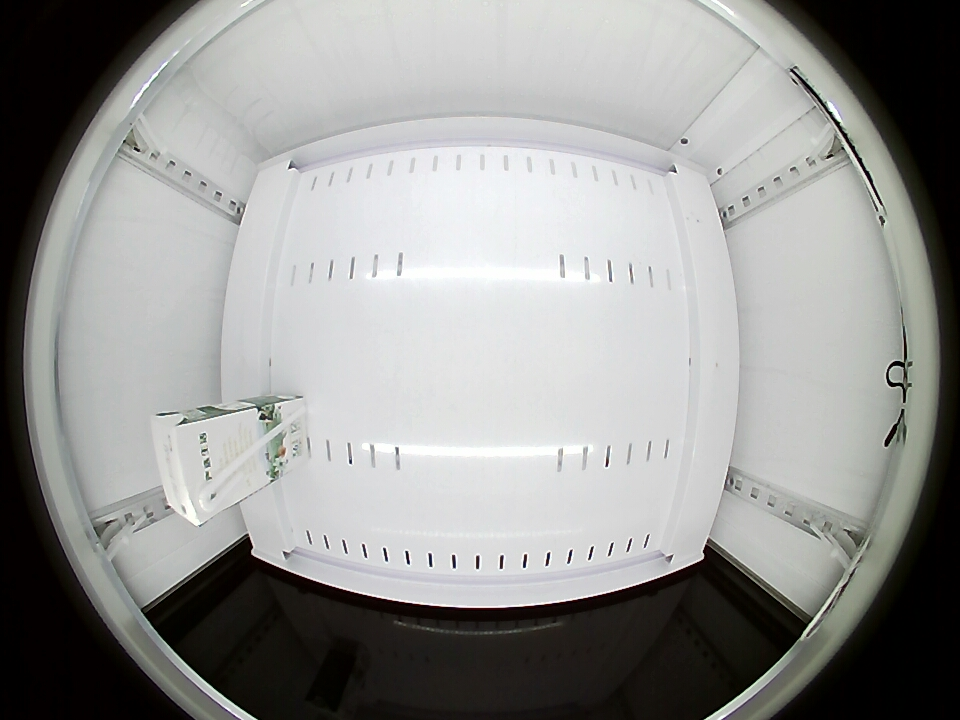jindian: (151, 407, 233, 527)
